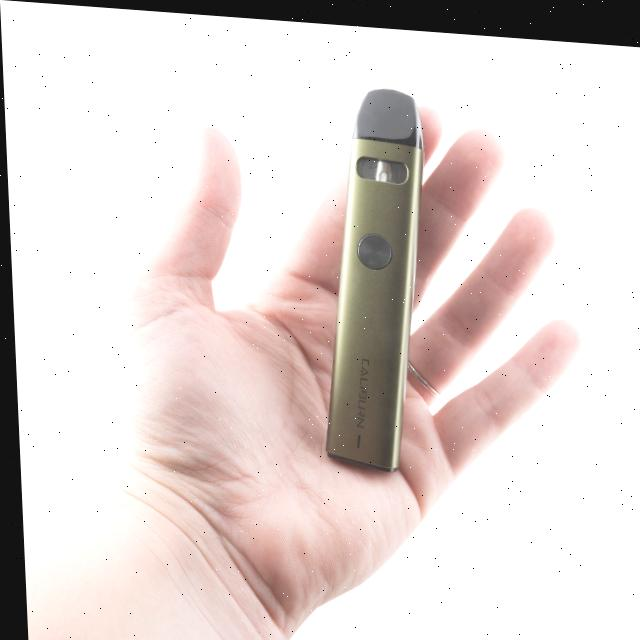vape: (311, 76, 433, 472)
